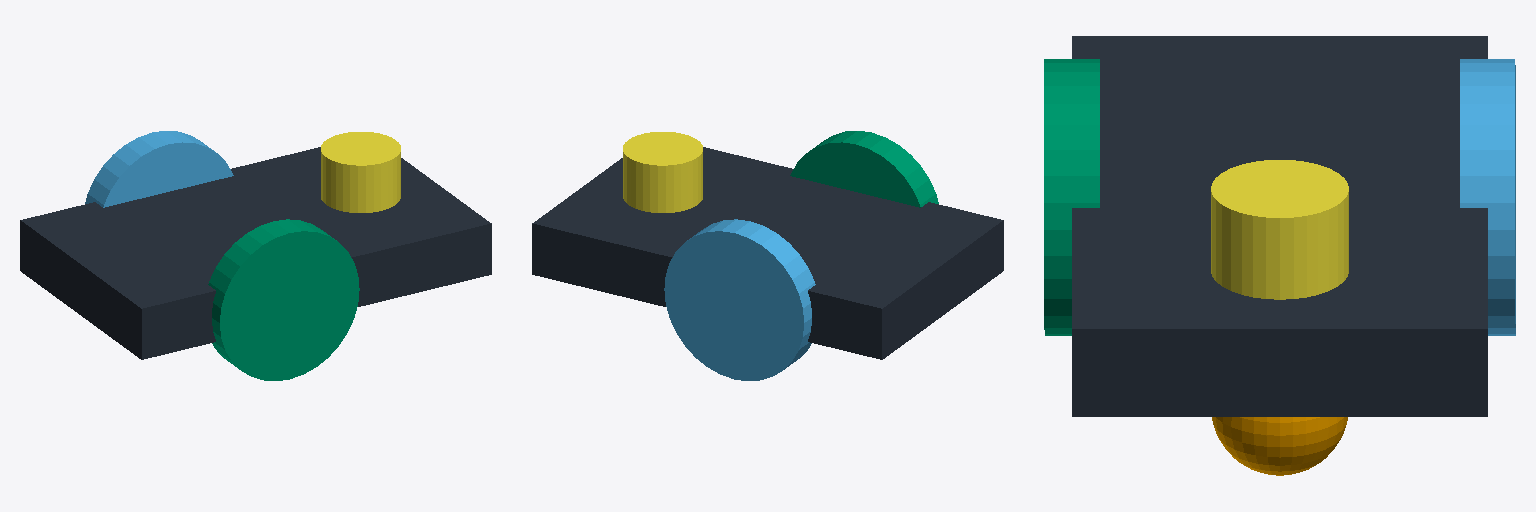
URDF robot description (raton):
<?xml version="1.0" ?>
<robot name="raton">


    <material name="blue">
        <color rgba="0.203125 0.23828125 0.28515625 1.0"/>
    </material>


    <link name="link_chassis">

        <visual>
            <origin rpy="0 0 0" xyz="0 0 0"/>
            <geometry>
                <box size="0.5 0.3 0.07"/>
            </geometry>
            <material name="blue"/> 
        </visual>

        <!-- pose and inertial -->
        <pose>0 0 0.1 0 0 0</pose>
        <inertial>
            <mass value="5"/>
            <origin rpy="0 0 0" xyz="0 0 0.1"/>
            <inertia ixx="0.0395416666667" ixy="0" ixz="0" iyy="0.106208333333" iyz="0" izz="0.106208333333"/>
        </inertial>

        <!-- body -->
        <collision name="collision_chassis">
            <geometry>
                <box size="0.5 0.3 0.07"/>
            </geometry>
        </collision>


        <!-- caster front -->
        <collision name="caster_front_collision">
            <origin rpy=" 0 0 0" xyz="0.35 0 -0.05"/>
            <geometry>
                <sphere radius="0.05"/>
            </geometry>
            <surface>
                <friction>
                <ode>
                    <mu>0</mu>
                    <mu2>0</mu2>
                    <slip1>1.0</slip1>
                    <slip2>1.0</slip2>
                </ode>
                </friction>
            </surface>
        </collision>

        <visual name="caster_front_visual">
            <origin rpy=" 0 0 0" xyz="0.2 0 -0.05"/>
            <geometry>
                <sphere radius="0.05"/>
            </geometry>
        </visual>

    </link>

    <gazebo reference="link_chassis">
        <material>Gazebo/Orange</material>
    </gazebo>

    <link name="link_right_wheel">

        <visual name="link_right_wheel_visual">
            <origin rpy="0 1.5707 1.5707" xyz="0 0 0"/>
            <geometry>
                <cylinder length="0.04" radius="0.1"/>
            </geometry>
        </visual>

        <inertial>
            <mass value="0.2"/>
            <origin rpy="0 1.5707 1.5707" xyz="0 0 0"/>
            <inertia ixx="0.000526666666667" ixy="0" ixz="0" iyy="0.000526666666667" iyz="0" izz="0.001"/>  
        </inertial>

        <collision name="link_right_wheel_collision">
            <origin rpy="0 1.5707 1.5707" xyz="0 0 0"/>
            <geometry>
                <cylinder length="0.04" radius="0.1"/>
            </geometry>
        </collision>

    </link>

  
    <joint name="joint_right_wheel" type="continuous">
        <origin rpy="0 0 0" xyz="-0.05 0.15 0"/>
        <child link="link_right_wheel"/>
        <parent link="link_chassis"/>
        <axis rpy="0 0 0" xyz="0 1 0"/>
        <limit effort="10000" velocity="1000"/>
        <joint_properties damping="1.0" friction="1.0"/>
    </joint>


    <gazebo reference="link_right_wheel">
        <material>Gazebo/Blue</material>
    </gazebo>


    <link name="link_left_wheel">

        <inertial>
            <mass value="0.2"/>
            <origin rpy="0 1.5707 1.5707" xyz="0 0 0"/>
            <inertia ixx="0.000526666666667" ixy="0" ixz="0" iyy="0.000526666666667" iyz="0" izz="0.001"/>
        </inertial>

        <collision name="link_left_wheel_collision">
            <origin rpy="0 1.5707 1.5707" xyz="0 0 0"/>
            <geometry>
                <cylinder length="0.04" radius="0.1"/>
            </geometry> 
        </collision>

        <visual name="link_left_wheel_visual">
            <origin rpy="0 1.5707 1.5707" xyz="0 0 0"/>
            <geometry>
                <cylinder length="0.04" radius="0.1"/>
            </geometry>
        </visual>

    </link>

    <joint name="joint_left_wheel" type="continuous">
        <origin rpy="0 0 0" xyz="-0.05 -0.15 0"/>
        <child link="link_left_wheel"/>
        <parent link="link_chassis"/>
        <axis rpy="0 0 0" xyz="0 1 0"/>
        <limit effort="10000" velocity="1000"/>
        <joint_properties damping="1.0" friction="1.0"/>
    </joint>


    <gazebo reference="link_left_wheel">
        <material>Gazebo/Blue</material>
    </gazebo>
  

    <link name="sensor_laser">

        <inertial>
            <origin xyz="0 0 0" rpy="0 0 0" />
            <mass value="1" />
            <inertia ixx="0.00145833" ixy="0" ixz="0" iyy="0.00145833" iyz="0" izz="0.00125"/>
        </inertial>

        <visual>
            <origin xyz="0 0 0" rpy="0 0 0" />
            <geometry>
            <cylinder radius="0.05" length="0.1"/>
            </geometry>
            <material name="white" />
        </visual>


        <collision>
            <origin xyz="0 0 0" rpy="0 0 0"/>
            <geometry>
            <cylinder radius="0.05" length="0.1"/>
            </geometry>
        </collision>

    </link>

    <joint name="joint_sensor_laser" type="fixed">
        <origin xyz="0.15 0 0.05" rpy="0 0 0"/>
        <parent link="link_chassis"/>
        <child link="sensor_laser"/>
    </joint>

    <gazebo>
        <plugin filename="libgazebo_ros_diff_drive.so" name="differential_drive_controller">
        <legacyMode>false</legacyMode>
        <alwaysOn>true</alwaysOn>
        <updateRate>20</updateRate>
        <leftJoint>joint_left_wheel</leftJoint>
        <rightJoint>joint_right_wheel</rightJoint>
        <wheelSeparation>0.2</wheelSeparation>
        <wheelDiameter>0.2</wheelDiameter>
        <torque>0.1</torque>
        <commandTopic>cmd_vel</commandTopic>
        <odometryTopic>odom</odometryTopic>
        <odometryFrame>odom</odometryFrame>
        <robotBaseFrame>link_chassis</robotBaseFrame>
        </plugin>
    </gazebo>

        <gazebo reference="sensor_laser">
        <sensor type="ray" name="head_hokuyo_sensor">
        <pose>0 0 0 0 0 0</pose>
        <visualize>false</visualize>
        <update_rate>20</update_rate>
        <ray>
            <scan>
            <horizontal>
                <samples>720</samples>
                <resolution>1</resolution>
                <min_angle>-1.570796</min_angle>
                <max_angle>1.570796</max_angle>
            </horizontal>
            </scan>
            <range>
            <min>0.10</min>
            <max>10.0</max>
            <resolution>0.01</resolution>
            </range>
            <noise>
            <type>gaussian</type>
            <mean>0.0</mean>
            <stddev>0.01</stddev>
            </noise>
        </ray>
        <plugin name="gazebo_ros_head_hokuyo_controller" filename="libgazebo_ros_laser.so">
            <topicName>/mi_primer_robot/laser/scan</topicName>
            <frameName>sensor_laser</frameName>
        </plugin>
        </sensor>
    </gazebo>

</robot>


     

--- Facts derived from the render (not from the file) ---
The picture shows the robot from 3 angles, left to right: view 1: azimuth 30°, elevation 25°; view 2: azimuth 150°, elevation 25°; view 3: azimuth 270°, elevation 25°; orthographic projection.
Robot: raton — 4 links, 3 joints (2 continuous, 1 fixed); root link link_chassis; default pose: every joint at zero.
Links seen in each view (by area): view 1: link_chassis, link_left_wheel, link_right_wheel, sensor_laser; view 2: link_chassis, link_right_wheel, link_left_wheel, sensor_laser; view 3: link_chassis, sensor_laser, link_right_wheel, link_left_wheel.
Link boxes in pixels (x1=…): link_chassis: x1=20, y1=147, x2=491, y2=359; link_left_wheel: x1=208, y1=219, x2=359, y2=380; link_right_wheel: x1=85, y1=131, x2=233, y2=207; sensor_laser: x1=321, y1=132, x2=400, y2=212; link_chassis: x1=532, y1=147, x2=1003, y2=359; link_right_wheel: x1=664, y1=219, x2=815, y2=380; link_left_wheel: x1=790, y1=131, x2=938, y2=207; sensor_laser: x1=623, y1=132, x2=702, y2=212; link_chassis: x1=1072, y1=36, x2=1487, y2=475; sensor_laser: x1=1211, y1=160, x2=1348, y2=299; link_right_wheel: x1=1460, y1=59, x2=1515, y2=335; link_left_wheel: x1=1044, y1=59, x2=1099, y2=335.
Bounding box of the posed robot: 0.5 × 0.34 × 0.2 m (x, y, z).
Geometry: primitives only (box / cylinder / sphere), no mesh files.
